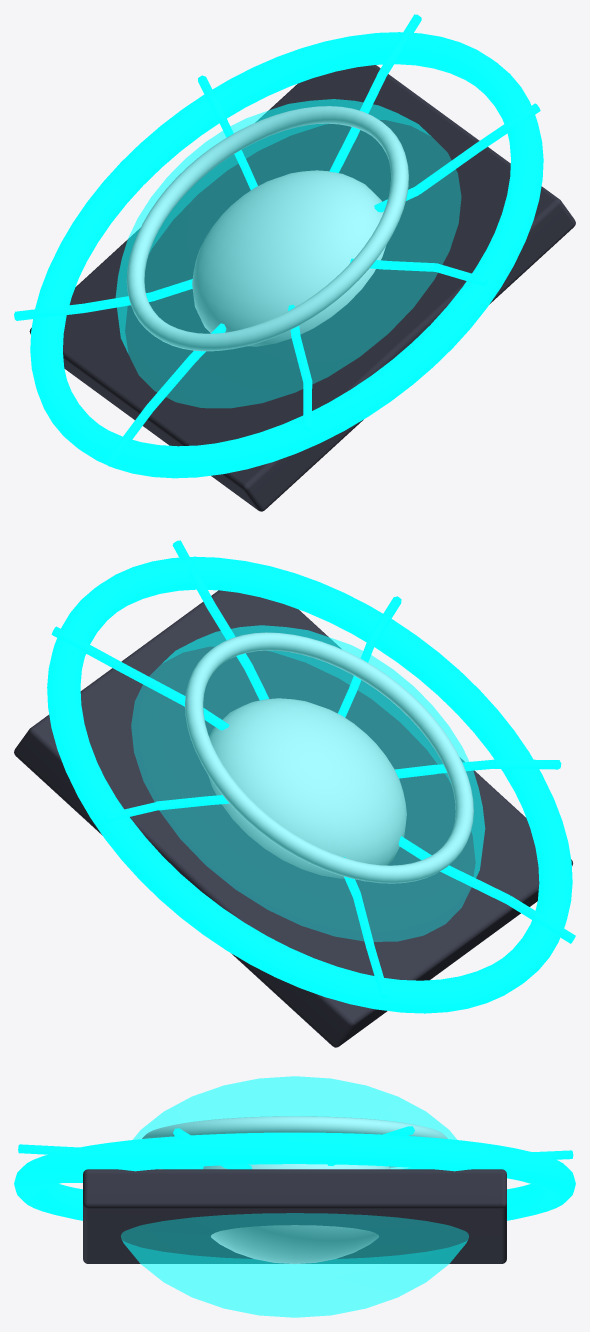
File: SpaceShotgun_Impact.fbx
3 views of the same model, one above another, from view 1: azimuth 30°, elevation 25°; view 2: azimuth 150°, elevation 25°; view 3: azimuth 270°, elevation 25° (orthographic). The views are drawn at different scales.
Visible parts, largest first — view 1: SpaceShotgun_Impact_Pro_Glass_cyan_0.35, SpaceShotgun_Impact_Pro_Plastic_Grey, SpaceShotgun_Impact_Pro_Glow_cyan_10, SpaceShotgun_Impact_Pro_Glow_white_18, SpaceShotgun_Impact_Pro_Glow_white_14, SpaceShotgun_Impact_Pro_Glow_cyan_18; view 2: SpaceShotgun_Impact_Pro_Glass_cyan_0.35, SpaceShotgun_Impact_Pro_Plastic_Grey, SpaceShotgun_Impact_Pro_Glow_cyan_10, SpaceShotgun_Impact_Pro_Glow_white_18, SpaceShotgun_Impact_Pro_Glow_white_14, SpaceShotgun_Impact_Pro_Glow_cyan_18; view 3: SpaceShotgun_Impact_Pro_Glass_cyan_0.35, SpaceShotgun_Impact_Pro_Plastic_Grey, SpaceShotgun_Impact_Pro_Glow_cyan_10, SpaceShotgun_Impact_Pro_Glow_white_18, SpaceShotgun_Impact_Pro_Glow_white_14, SpaceShotgun_Impact_Pro_Glow_cyan_18.
Part boxes in pixels (x1,y1,x2,y2): SpaceShotgun_Impact_Pro_Glass_cyan_0.35: (115, 99, 461, 407); SpaceShotgun_Impact_Pro_Plastic_Grey: (29, 65, 575, 511); SpaceShotgun_Impact_Pro_Glow_cyan_10: (30, 32, 543, 478); SpaceShotgun_Impact_Pro_Glow_white_18: (192, 170, 385, 346); SpaceShotgun_Impact_Pro_Glow_white_14: (126, 106, 408, 351); SpaceShotgun_Impact_Pro_Glow_cyan_18: (14, 14, 540, 466); SpaceShotgun_Impact_Pro_Glass_cyan_0.35: (131, 625, 485, 941); SpaceShotgun_Impact_Pro_Plastic_Grey: (14, 590, 572, 1047); SpaceShotgun_Impact_Pro_Glow_cyan_10: (47, 556, 572, 1013); SpaceShotgun_Impact_Pro_Glow_white_18: (208, 698, 406, 878); SpaceShotgun_Impact_Pro_Glow_white_14: (185, 632, 473, 883); SpaceShotgun_Impact_Pro_Glow_cyan_18: (51, 540, 575, 999); SpaceShotgun_Impact_Pro_Glass_cyan_0.35: (121, 1076, 468, 1317); SpaceShotgun_Impact_Pro_Plastic_Grey: (83, 1169, 506, 1263); SpaceShotgun_Impact_Pro_Glow_cyan_10: (14, 1132, 575, 1220); SpaceShotgun_Impact_Pro_Glow_white_18: (203, 1164, 390, 1263); SpaceShotgun_Impact_Pro_Glow_white_14: (142, 1116, 447, 1167); SpaceShotgun_Impact_Pro_Glow_cyan_18: (18, 1126, 573, 1182).
Size of the model in its own units: 0.3675 by 0.243 by 0.424.
